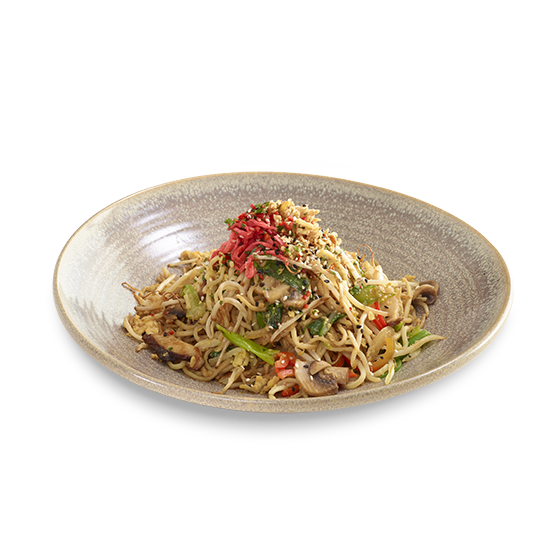Soba: (128, 197, 460, 392)
